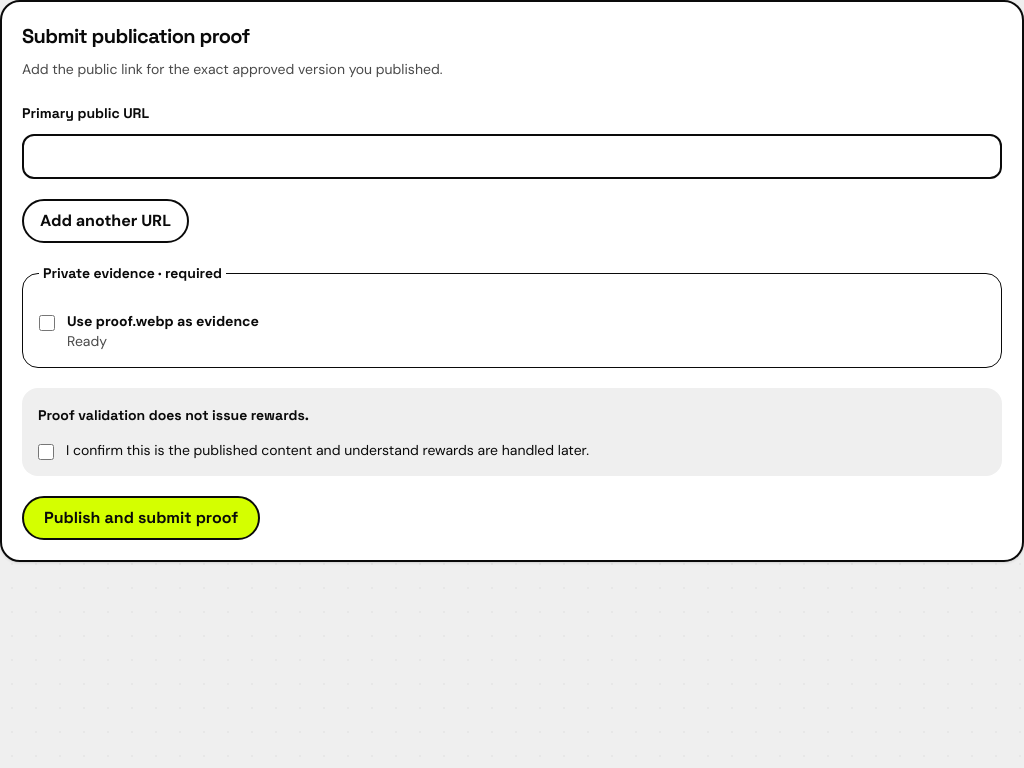
Scenario: ProofSubmissionForm › requires evidence when policy demands it and submits normalized form values with explicit reward-neutral confirmation
The width and height of the screenshot is (1024, 768).
Expected: the text "Proof validation does not issue rewards." is shown, [38,406,309,424]
In the field labelled "Primary public URL": (512, 156) [22,134,1002,179], type "  https://www.instagram.com/p/launch  "
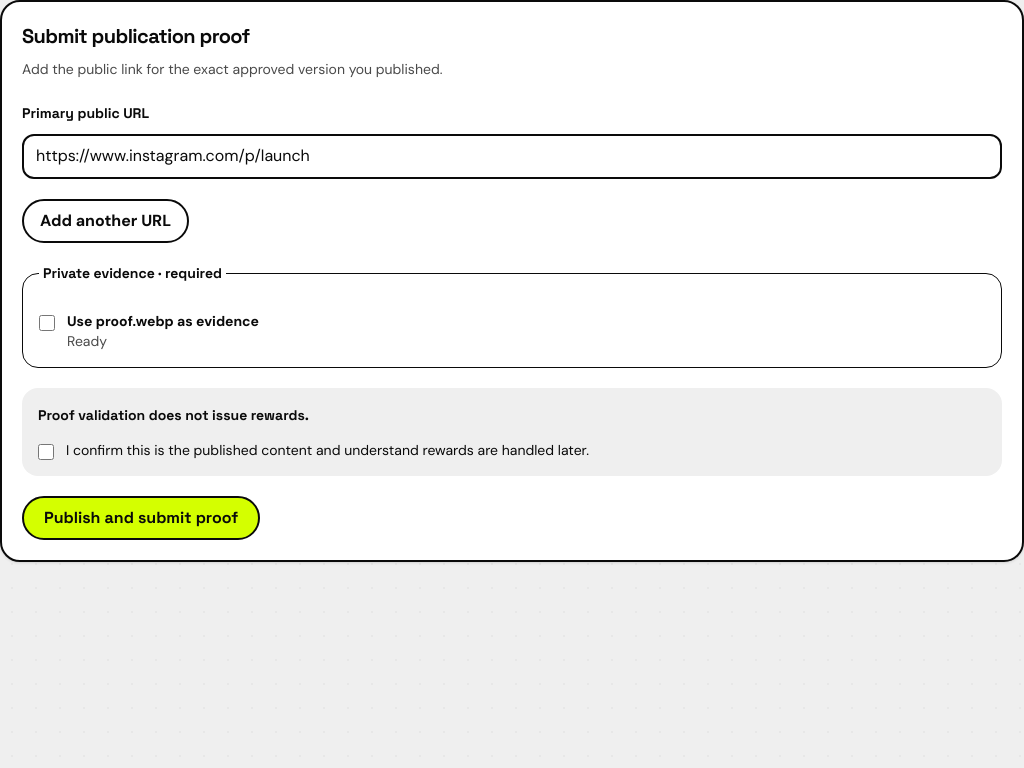
Click the button "Publish and submit proof": (141, 518) [22,496,260,540]
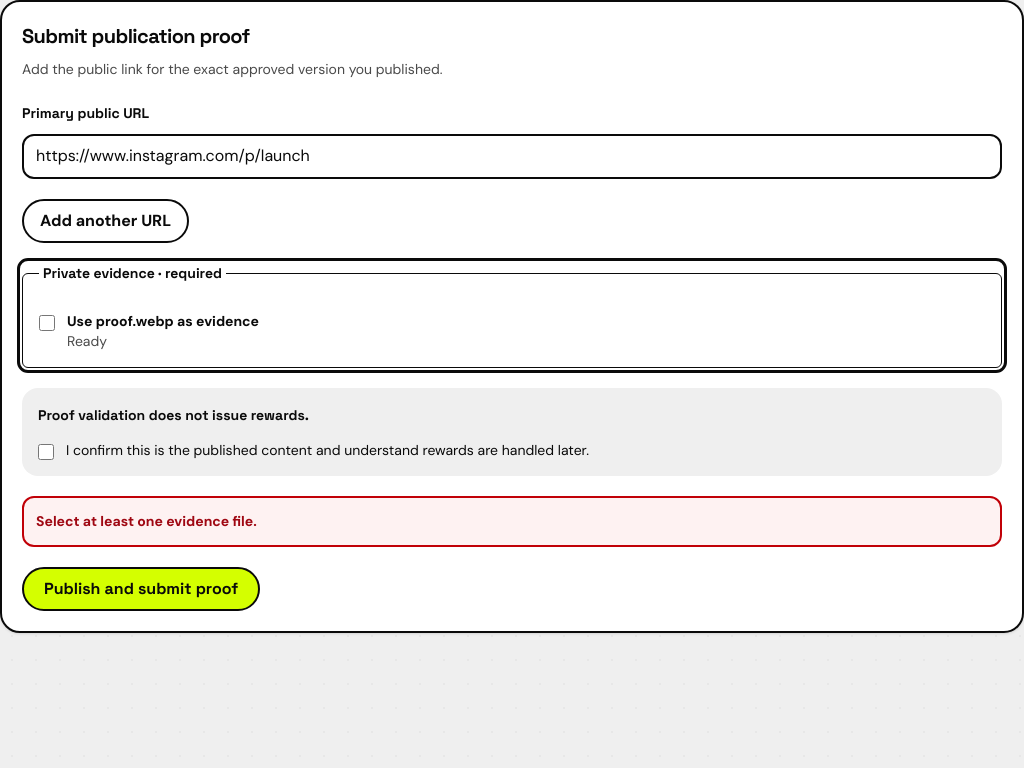
Expected: the text "Select at least one evidence file." is shown, [22,496,1002,547]
Click the checkbox labelled "Use proof.webp as evidence": (47, 324) [39,316,55,332]
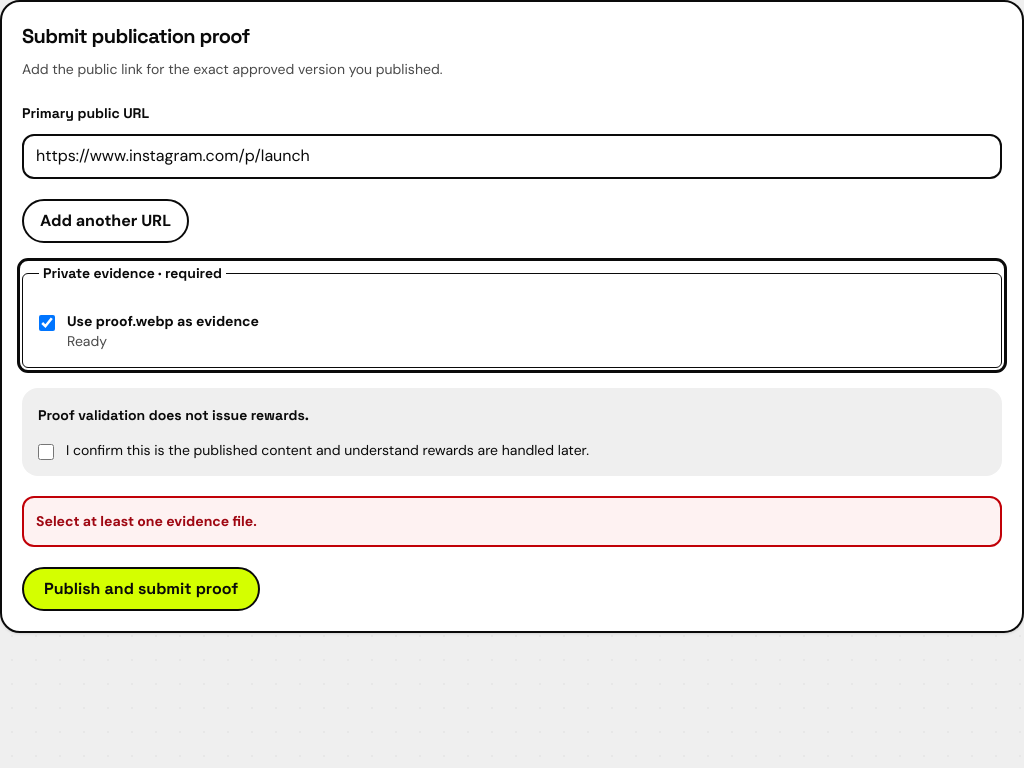
Click the button "Publish and submit proof": (141, 589) [22,567,260,612]
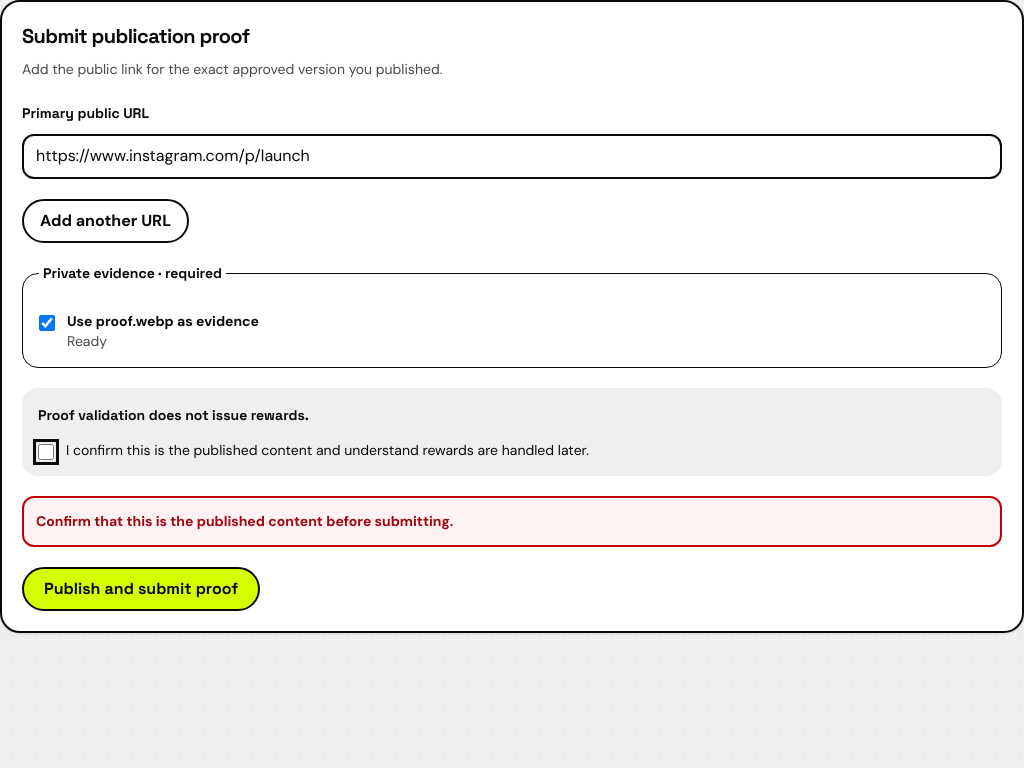
Expected: the text "Confirm that this is the published content before submitting." is shown, [22,496,1002,547]
Click the checkbox named "I confirm this is the published content and understand rewards are handled later.": (46, 452) [38,444,54,460]
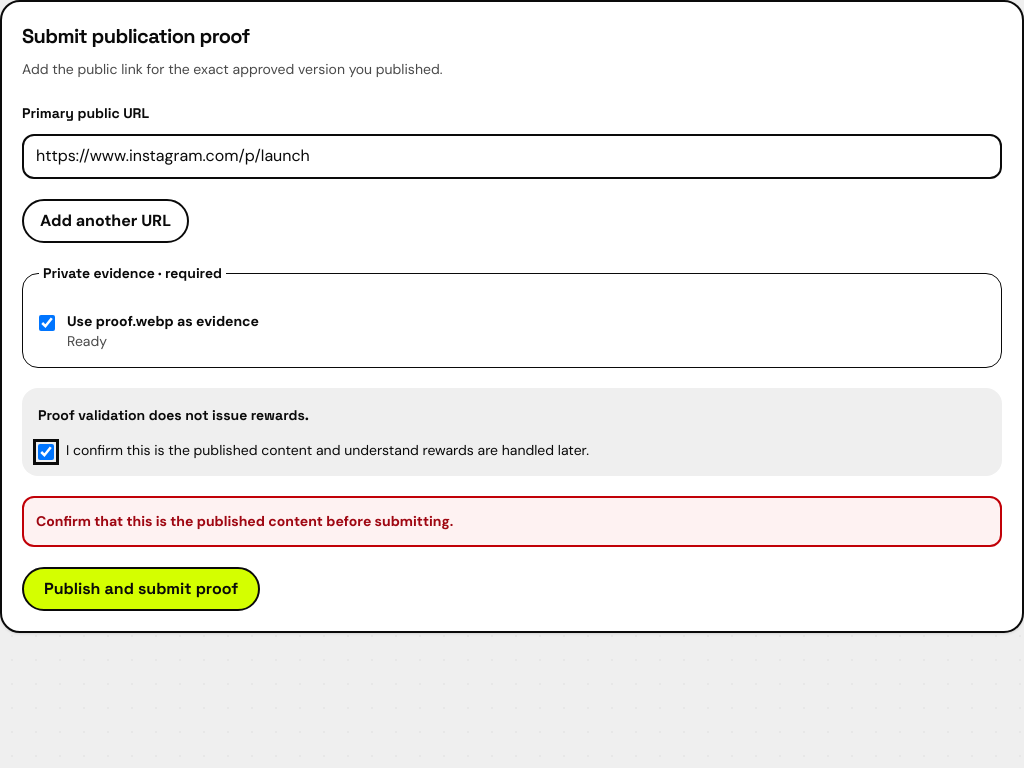
Click the button "Publish and submit proof": (141, 589) [22,567,260,612]
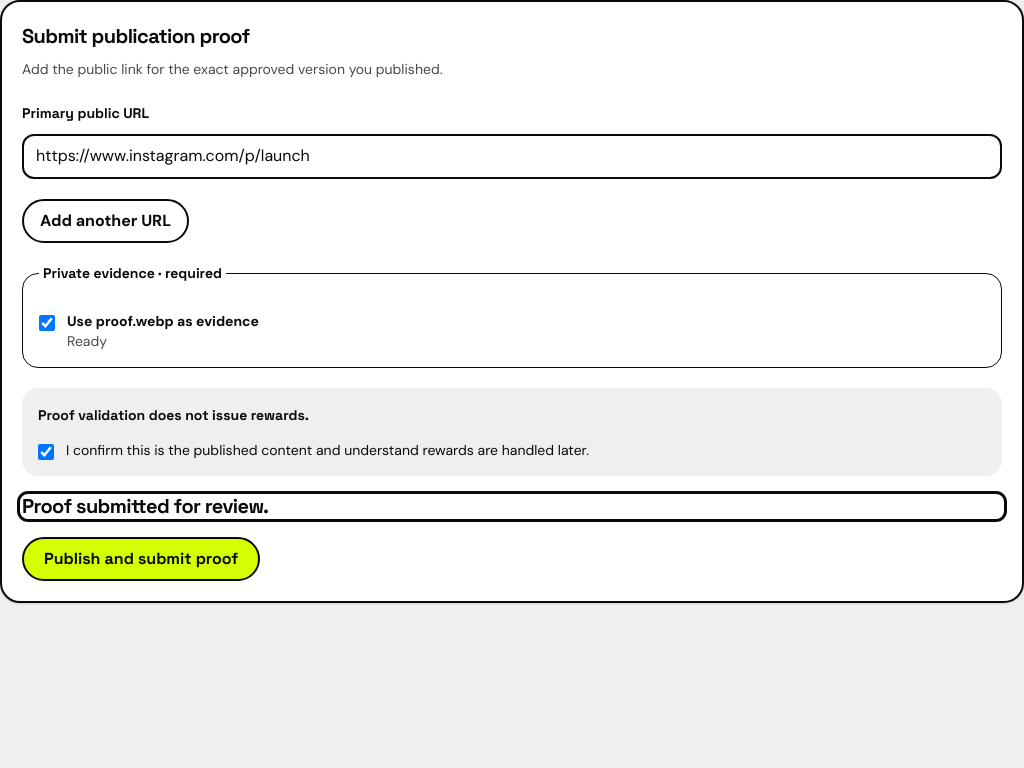
Expected: the message reads "Proof submitted for review.", [22,493,268,519]
